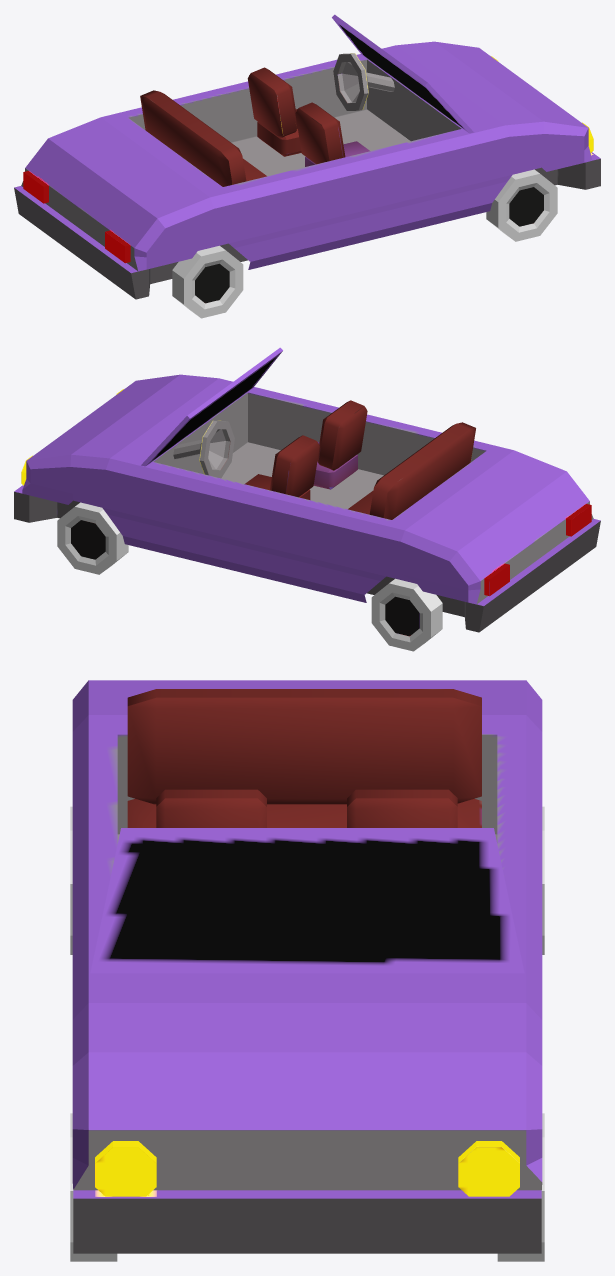
Rendered from Cabriolet.fbx.
3 views of the same model, one above another, from view 1: azimuth 30°, elevation 25°; view 2: azimuth 150°, elevation 25°; view 3: azimuth 270°, elevation 25° (orthographic). The views are drawn at different scales.
Visible parts, largest first — view 1: Cabriolet; view 2: Cabriolet; view 3: Cabriolet.
Boxes of the visible parts, x1,y1,x2,y2 form: Cabriolet: (14,14,600,318); Cabriolet: (14,347,600,651); Cabriolet: (70,680,544,1261).
Size of the model in its own units: 393 by 135 by 172.
1 material, 1 textured.
